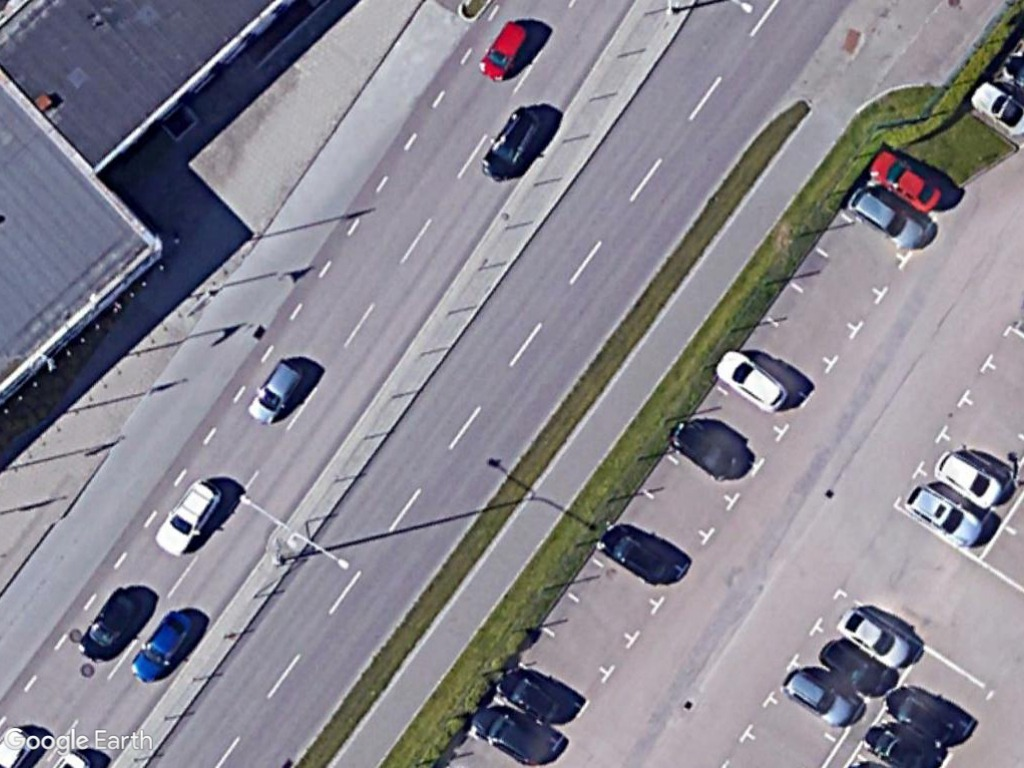car: (842, 180, 930, 253), (73, 583, 147, 668), (127, 602, 195, 691), (478, 99, 548, 185), (153, 473, 223, 559), (902, 479, 985, 550), (716, 343, 794, 418), (864, 145, 944, 213), (836, 601, 914, 670), (782, 665, 860, 729), (933, 448, 1007, 510), (474, 13, 535, 85), (245, 356, 303, 425)
